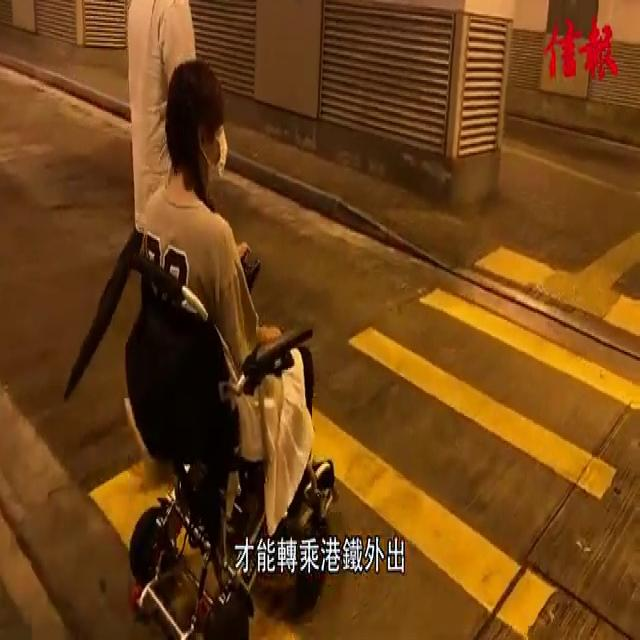wheelchairs: (126, 246, 342, 640)
